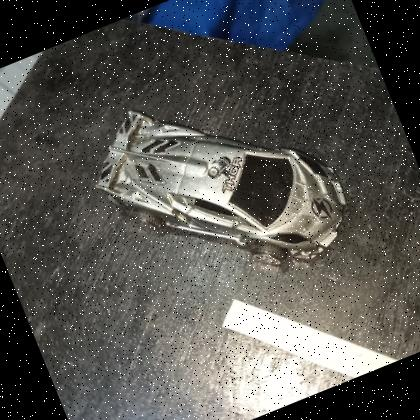Car: (98, 112, 348, 267)
